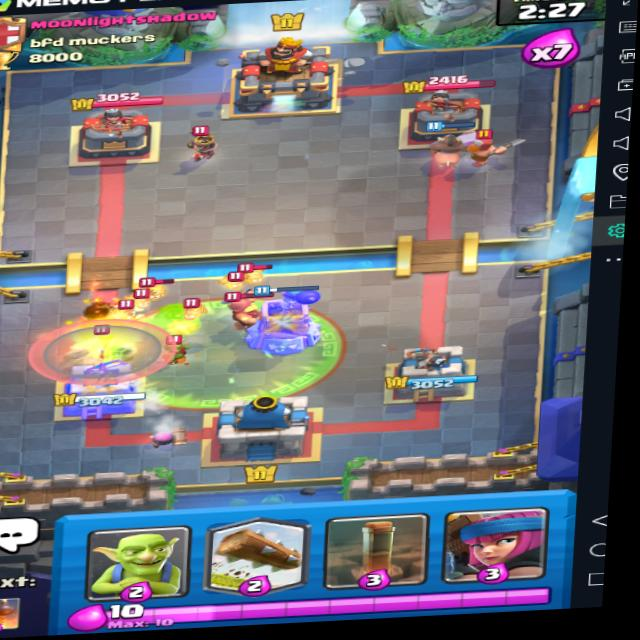fisherman: (216, 290, 289, 327)
goblin: (160, 327, 195, 363)
goblin-curse: (95, 289, 357, 421)
little-prince: (175, 119, 230, 164)
lumberjack: (453, 121, 519, 167)
